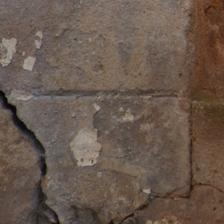Crack: (4, 95, 61, 224), (118, 174, 223, 222)
